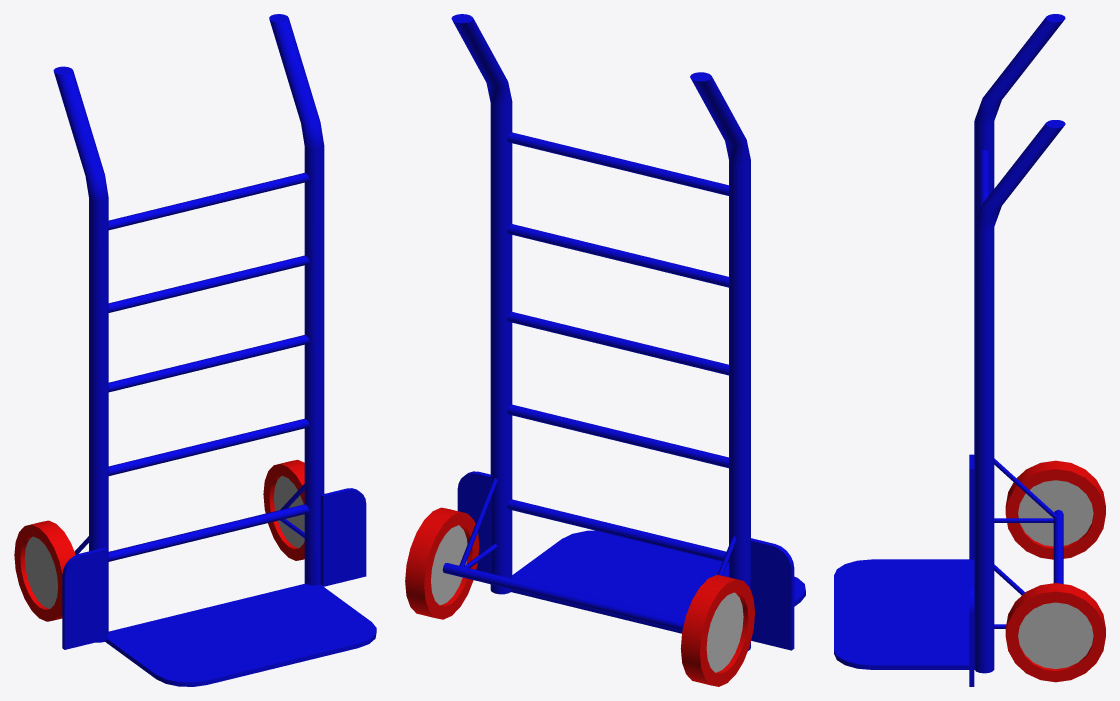
File: carretilla.fbx
The picture shows the model from 3 angles, left to right: view 1: azimuth 30°, elevation 25°; view 2: azimuth 150°, elevation 25°; view 3: azimuth 270°, elevation 25°; orthographic projection. The views are drawn at different scales.
Parts seen in each view (by area): view 1: carretilla; view 2: carretilla; view 3: carretilla.
Part boxes in pixels (<box>): carretilla: <box>14,14,376,686</box>; carretilla: <box>405,14,805,686</box>; carretilla: <box>834,14,1105,686</box>.
Size of the model in its own units: 69.93 by 120 by 54.24.
